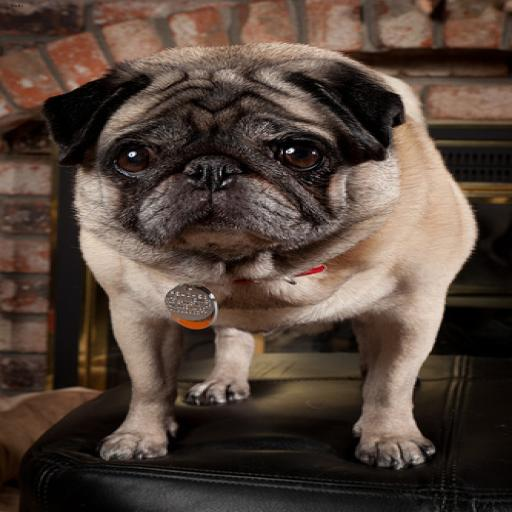dog_face: (43, 54, 411, 257)
